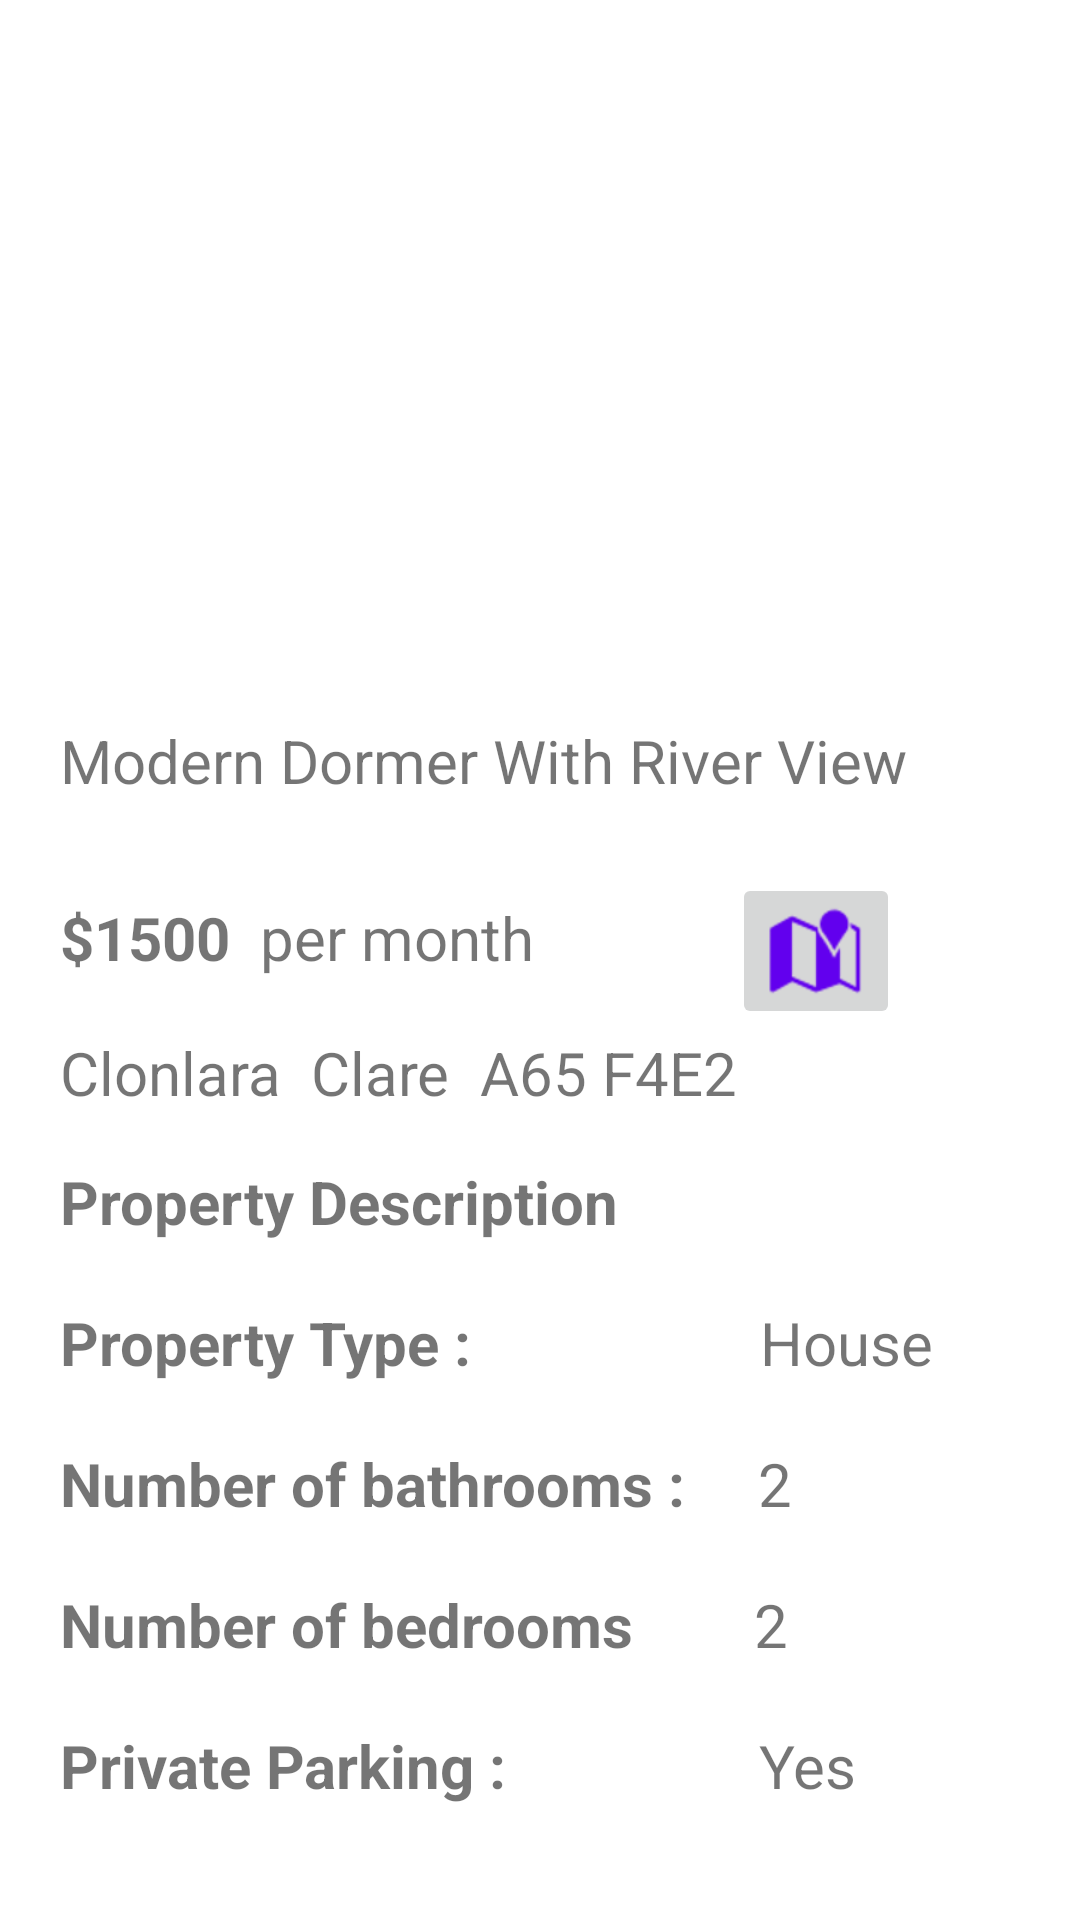

Icons on this 1080px x 1920px Android screen, each with its box as (x1, y1, x2, y2):
map: (744, 891, 888, 1011)
